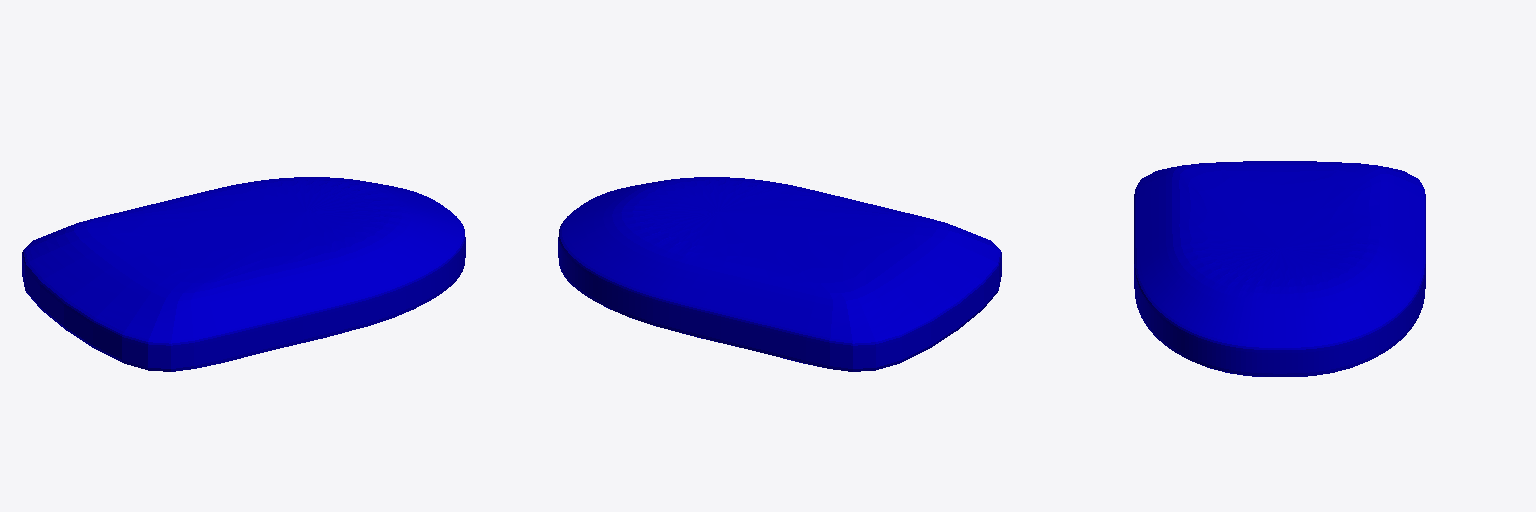
The model's file is fingergelpad3.obj.
The picture shows the model from 3 angles: view 1: azimuth 30°, elevation 25°; view 2: azimuth 150°, elevation 25°; view 3: azimuth 270°, elevation 25°; orthographic projection.
Parts seen in each view (by area): view 1: fingerplate; view 2: fingerplate; view 3: fingerplate.
Part boxes in pixels (left/top/right/bottom): fingerplate: left=22, top=177, right=465, bottom=371; fingerplate: left=558, top=177, right=1001, bottom=371; fingerplate: left=1134, top=161, right=1425, bottom=376.
Size of the model in its own units: 1.14 by 0.181 by 0.754.